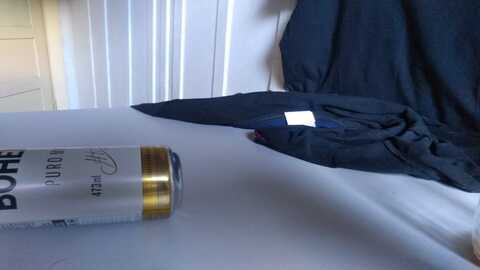bohemia: (1, 142, 177, 227)
